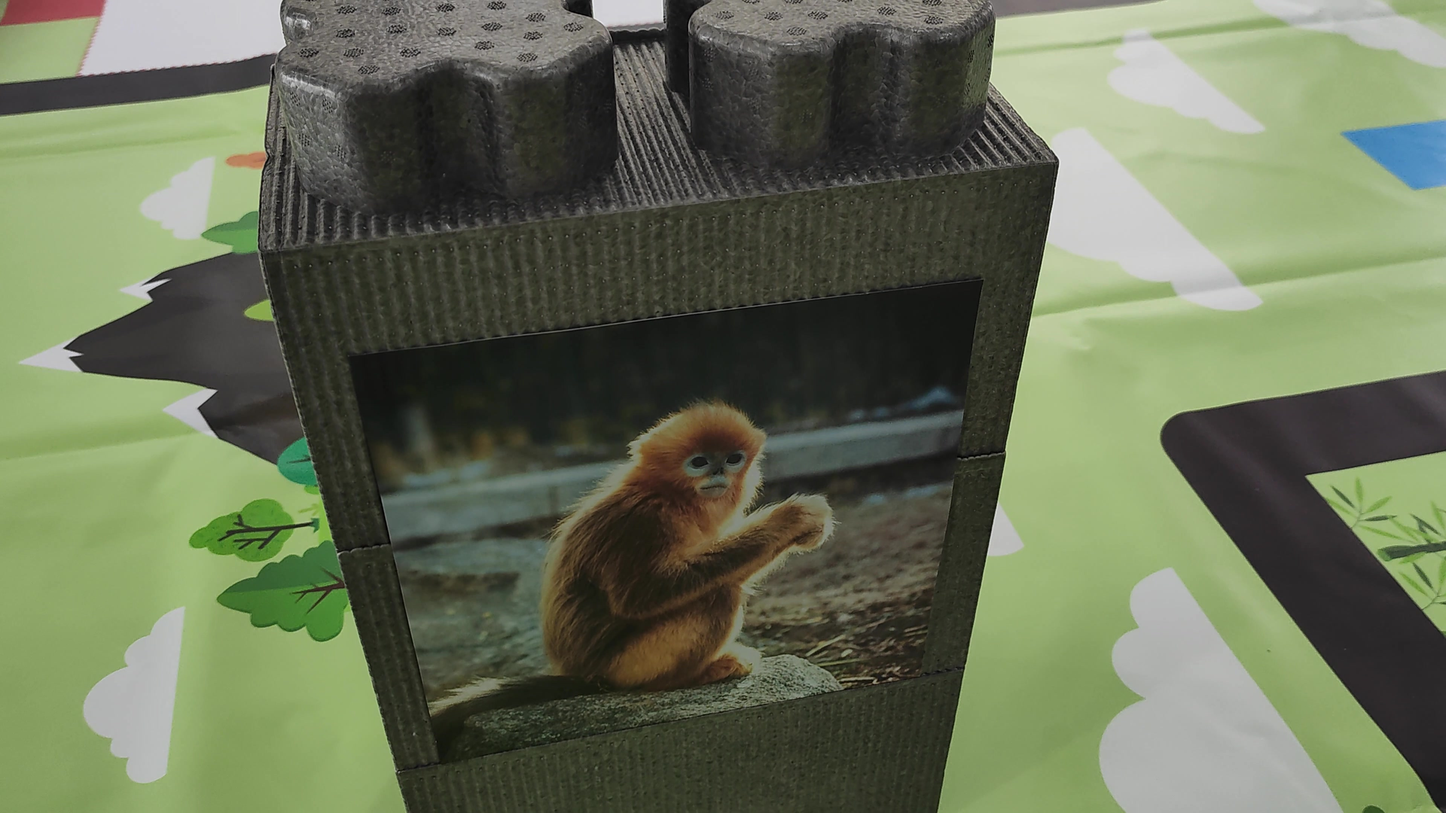monkey: (427, 368, 839, 712)
